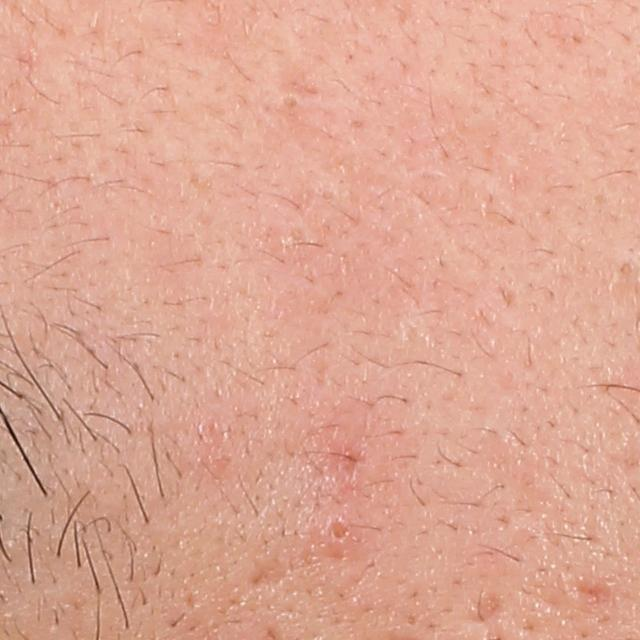atrophic_scar: (561, 578, 622, 613), (254, 554, 297, 591)
comedo: (325, 513, 352, 541), (279, 91, 300, 110)
